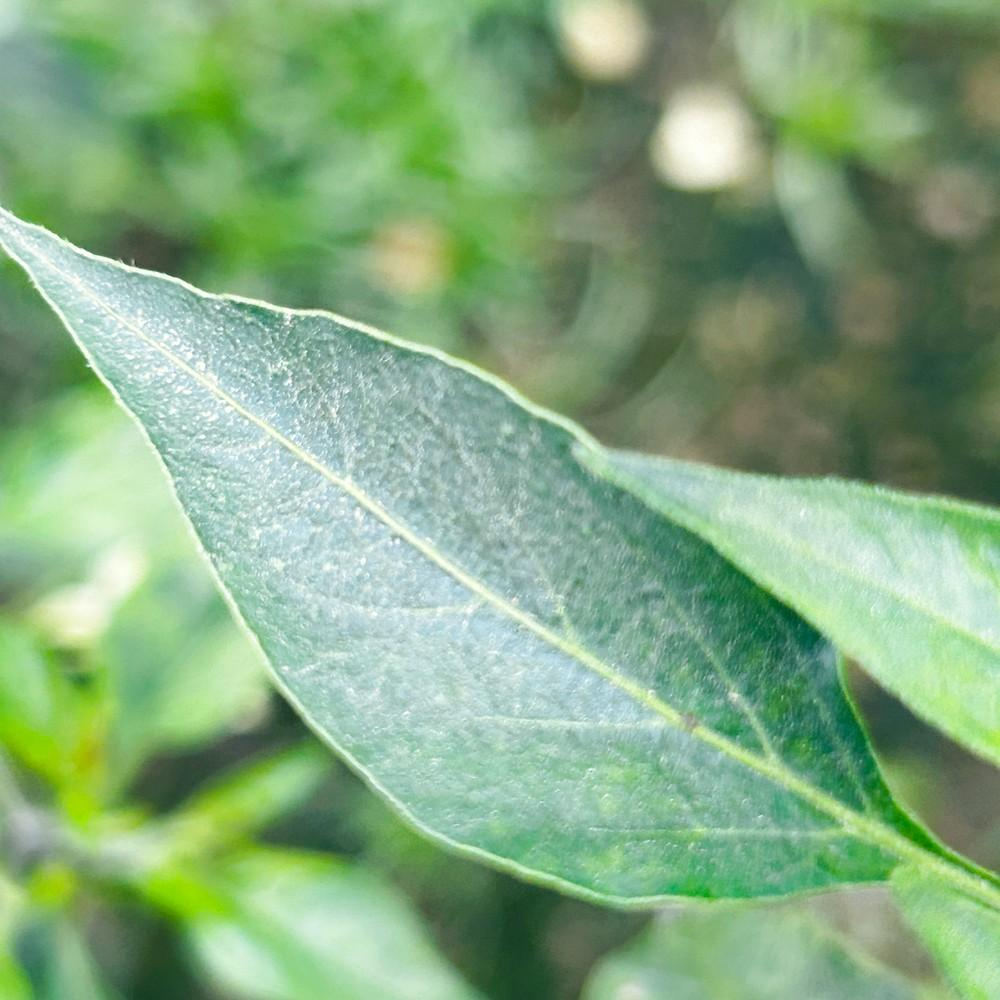Daun Cabai Sehat: (0, 199, 998, 996)
